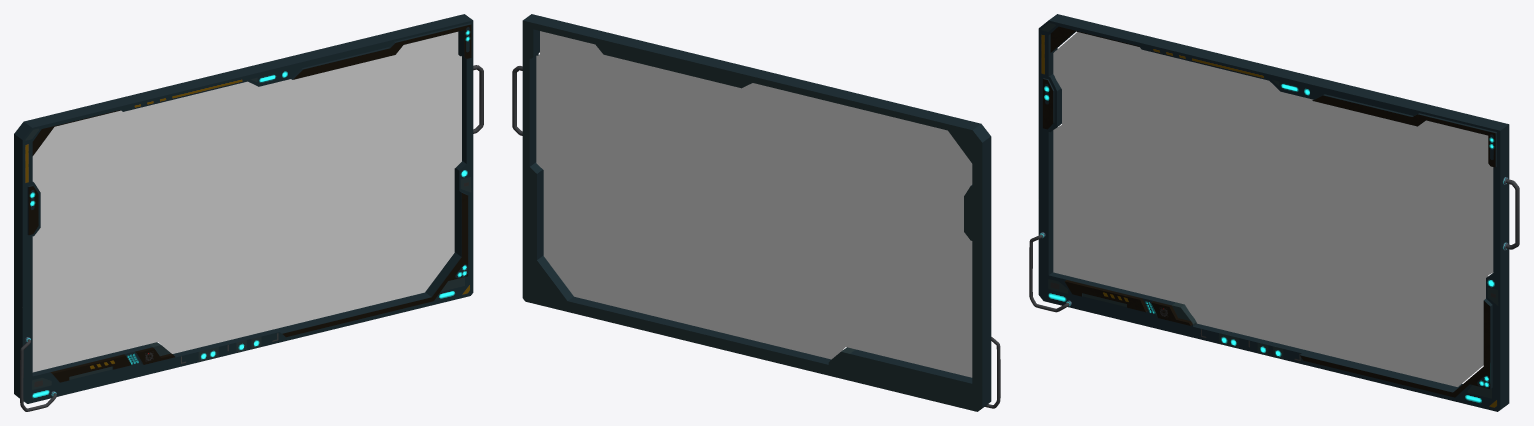
Rendered from panel_10sketchfab.fbx.
3 renders of one model, left to right at view 1: azimuth 30°, elevation 25°; view 2: azimuth 150°, elevation 25°; view 3: azimuth 330°, elevation 25°, orthographic. The views are drawn at different scales.
Parts seen in each view (by area): view 1: Display, Main; view 2: Display, Main; view 3: Display, Main.
Boxes of the visible parts, x1,y1,x2,y2 form: Display: [32, 32, 461, 372]; Main: [14, 14, 483, 411]; Display: [536, 31, 972, 377]; Main: [512, 14, 1000, 411]; Display: [1053, 32, 1493, 386]; Main: [1029, 14, 1519, 411].
Bounding box in the file's own units: 55.92 × 31.75 × 2.63.
